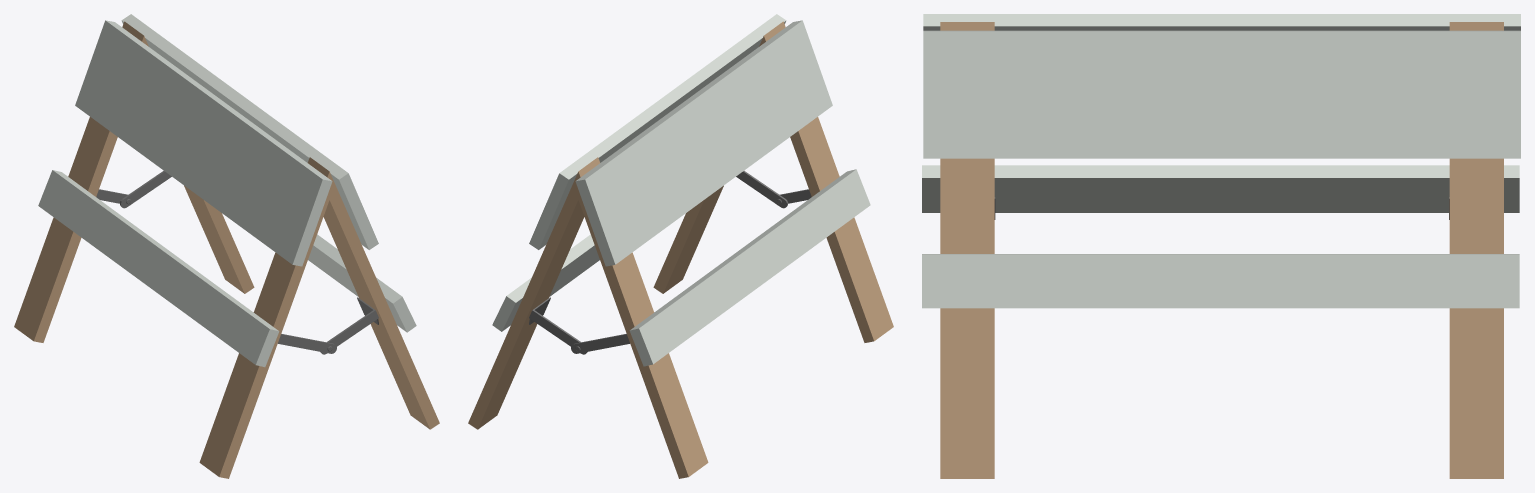
File: WarningSign.fbx
3 renders of one model, left to right at view 1: azimuth 30°, elevation 25°; view 2: azimuth 150°, elevation 25°; view 3: azimuth 270°, elevation 25°, orthographic. The views are drawn at different scales.
Parts seen in each view (by area): view 1: Board1.001, Sign_Blockade.001, Board2.001, Cube.156, Cube.155; view 2: Board1.001, Sign_Blockade.001, Board2.001, Cube.156, Cube.155; view 3: Board1.001, Board2.001, Sign_Blockade.001.
Part boxes in pixels (x1=…): Board1.001: x1=75, y1=14, x2=378, y2=266; Sign_Blockade.001: x1=14, y1=21, x2=439, y2=478; Board2.001: x1=38, y1=170, x2=416, y2=367; Cube.156: x1=120, y1=170, x2=378, y2=354; Cube.155: x1=96, y1=189, x2=336, y2=353; Board1.001: x1=529, y1=14, x2=832, y2=266; Sign_Blockade.001: x1=468, y1=21, x2=893, y2=478; Board2.001: x1=492, y1=169, x2=870, y2=366; Cube.156: x1=529, y1=170, x2=787, y2=354; Cube.155: x1=571, y1=189, x2=811, y2=353; Board1.001: x1=923, y1=14, x2=1520, y2=158; Board2.001: x1=922, y1=165, x2=1519, y2=308; Sign_Blockade.001: x1=940, y1=22, x2=1503, y2=478.
Bounding box in the file's own units: 161 × 197 × 275.
